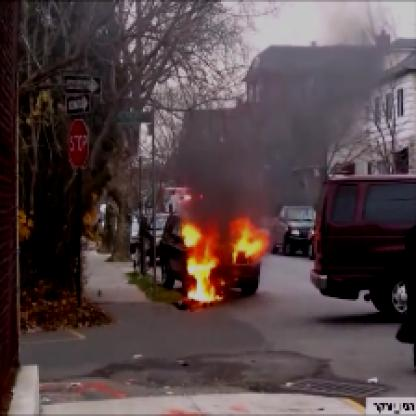Fire: (158, 195, 269, 319)
